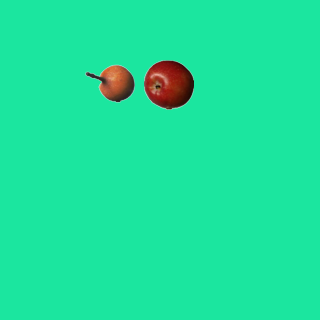Apple Braeburn: (143, 59, 193, 109)
Granadilla: (84, 58, 134, 108)
